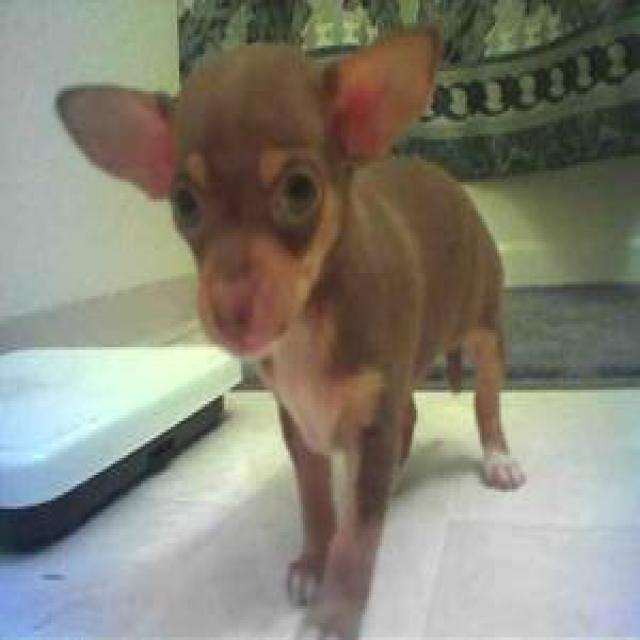dog-chihuahua: (55, 17, 529, 634)
